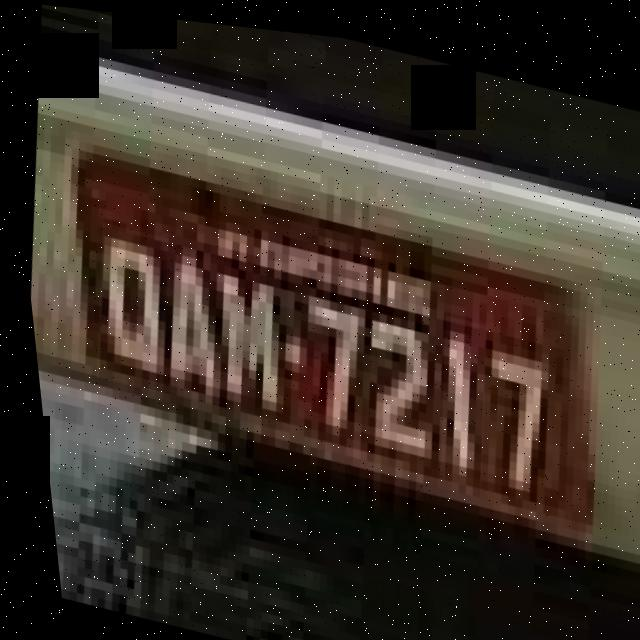1: (416, 304, 494, 481)
7: (472, 322, 565, 507), (281, 268, 378, 444)
A: (139, 240, 238, 404)
M: (191, 248, 298, 415)
Q: (76, 219, 177, 393)
